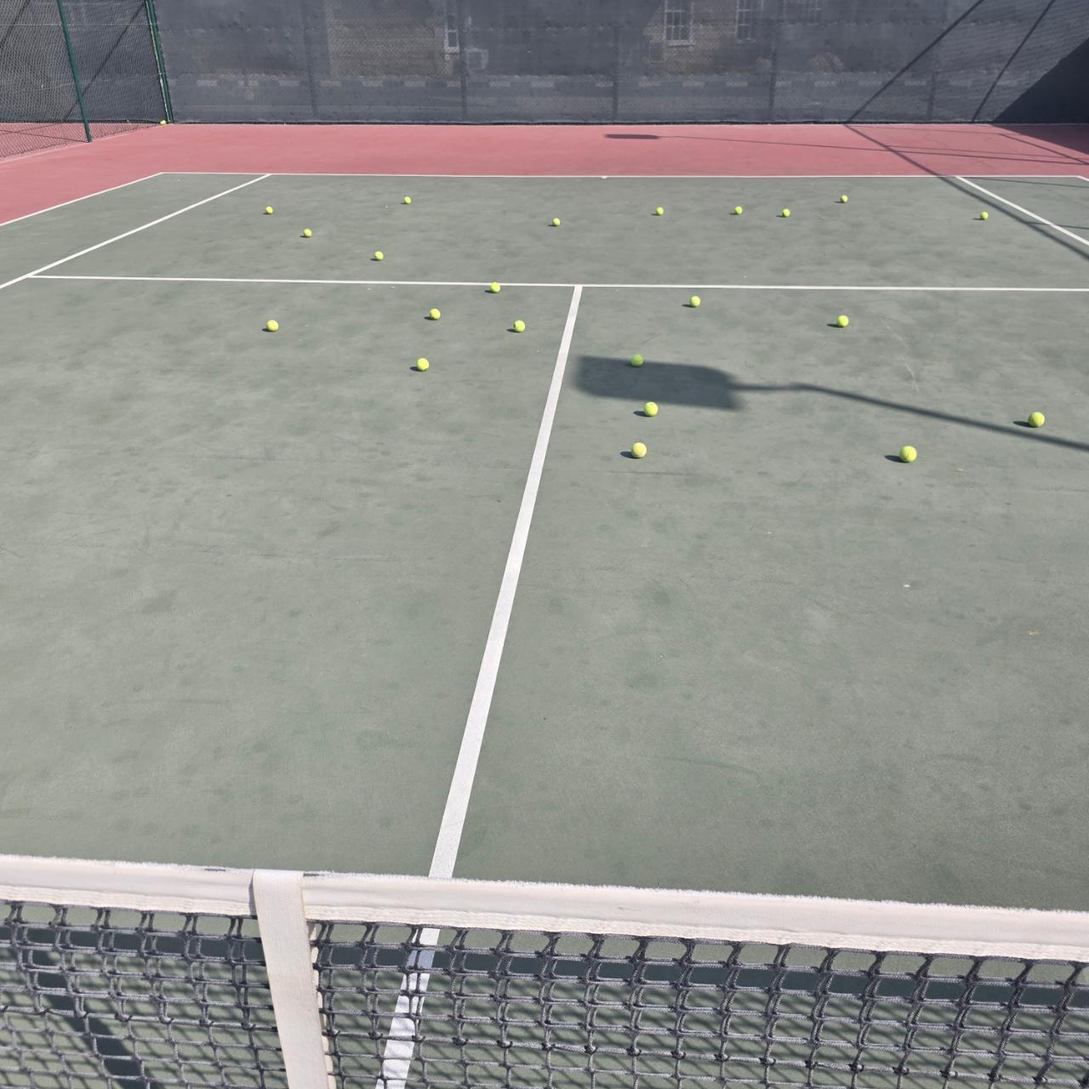tennis-ball: (899, 445, 918, 464), (630, 441, 647, 459), (1028, 412, 1045, 429), (642, 400, 659, 417), (630, 353, 644, 368), (265, 318, 279, 332), (428, 307, 441, 320), (513, 320, 526, 332), (416, 357, 428, 370), (836, 315, 849, 327), (689, 295, 701, 308), (490, 282, 500, 293), (374, 251, 384, 261), (302, 229, 312, 238), (782, 208, 791, 218), (265, 206, 274, 215), (655, 207, 664, 216), (552, 217, 560, 227), (403, 196, 412, 204), (980, 211, 988, 220), (840, 195, 848, 203), (735, 206, 742, 215), (160, 120, 165, 125)
